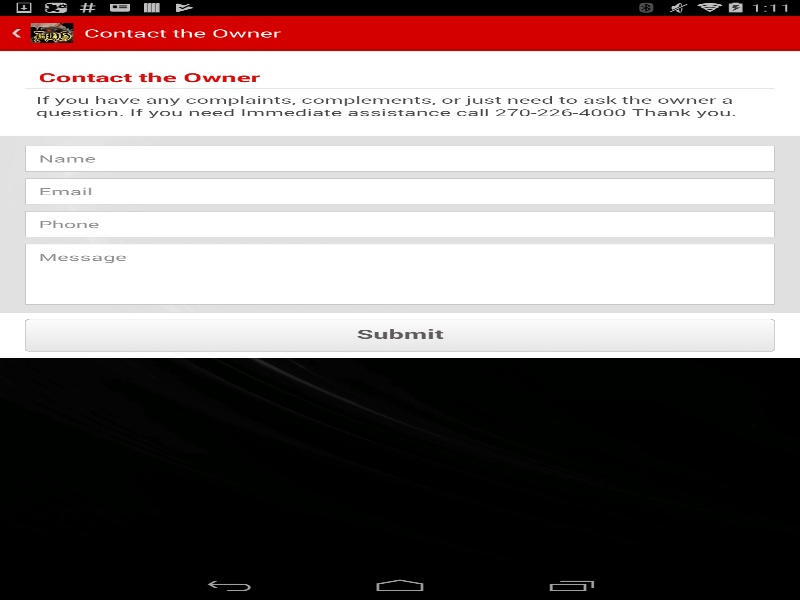Input: (25, 244, 774, 304), (25, 145, 774, 171), (25, 178, 774, 204), (25, 211, 774, 237)
